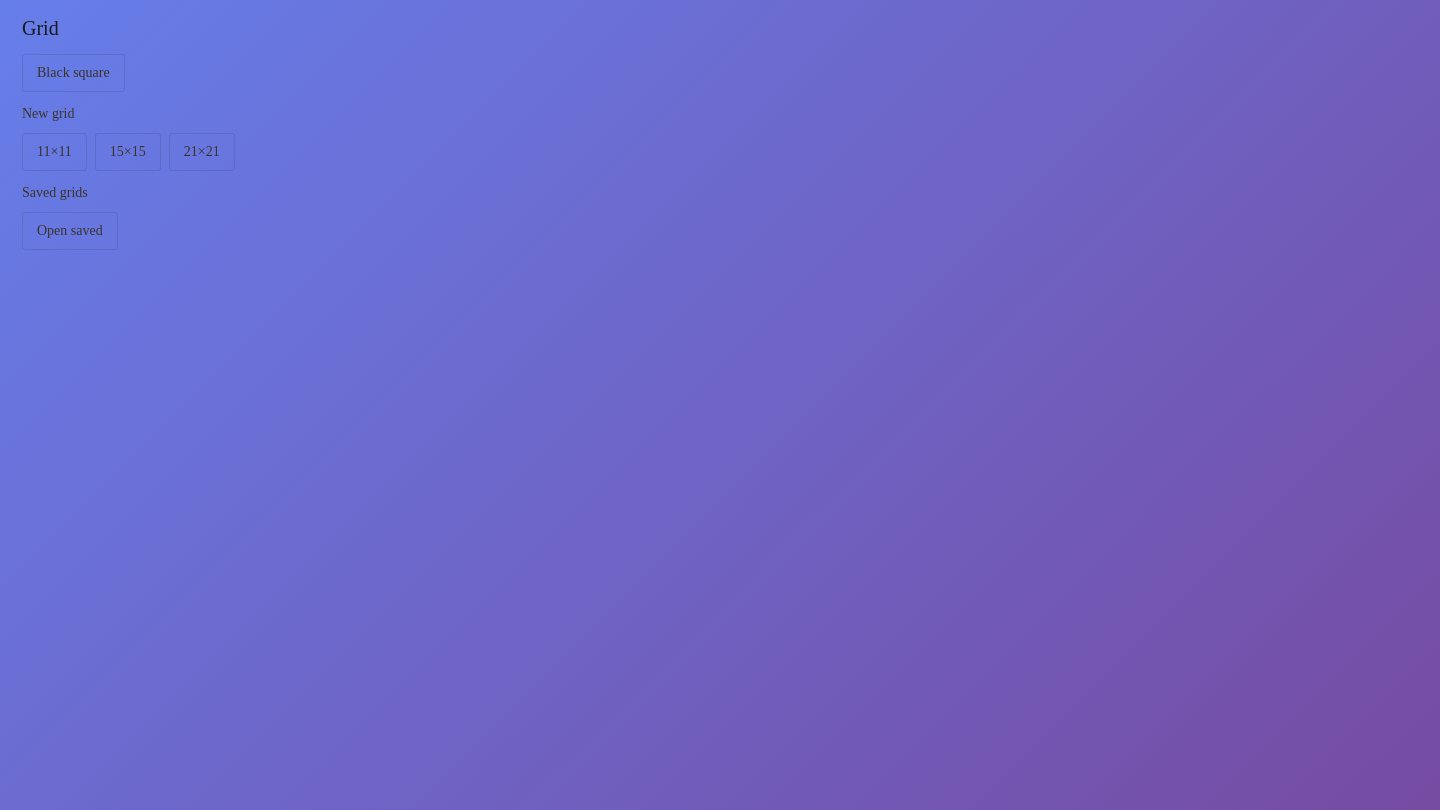
Test: GridPanel Open saved (§3.4) › lists nothing until Open saved is pressed, then one row per stored entry, newest first
Click the button "Open saved" at x=70, y=231, box x1=22 y1=212 x2=118 y2=250
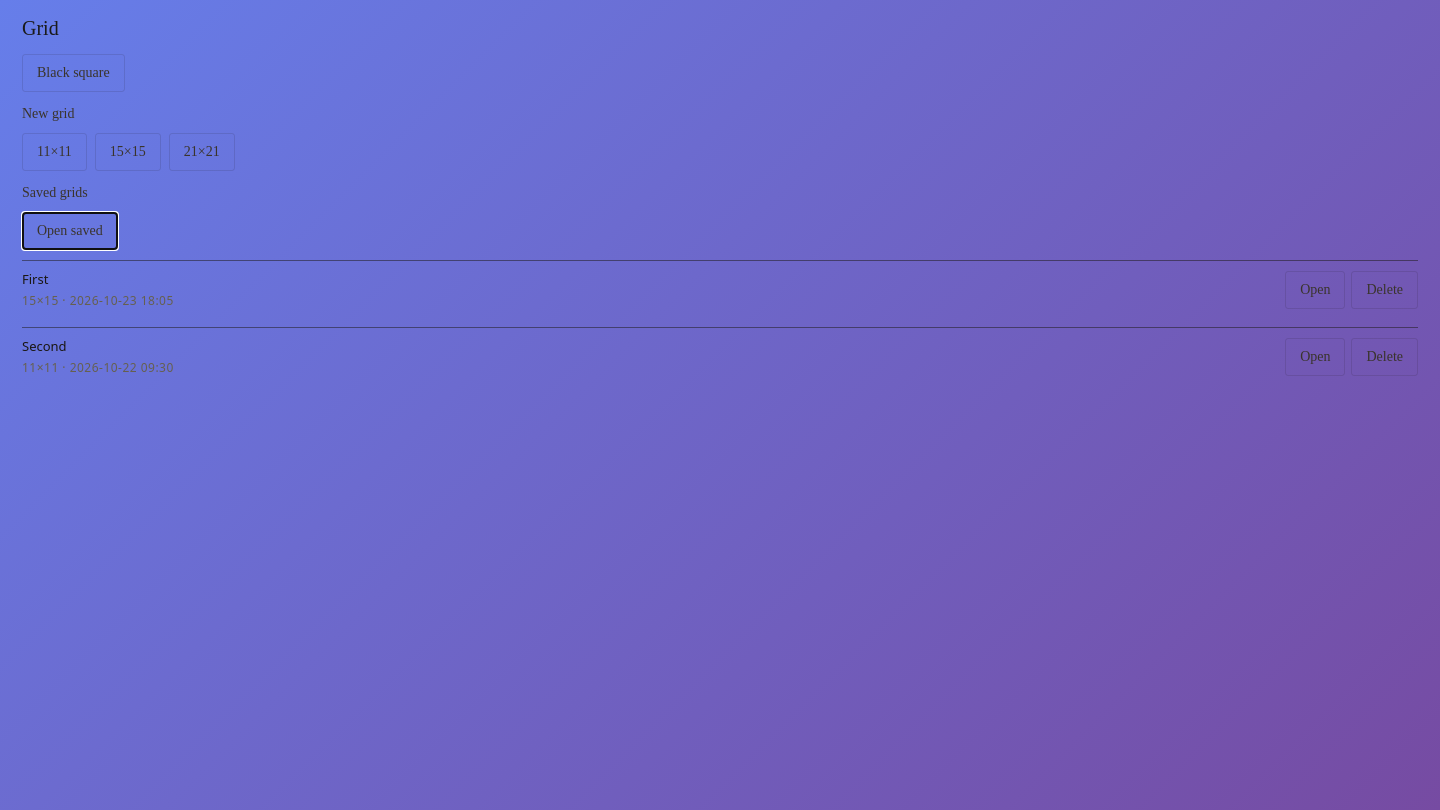
Result: the text "First" is shown at x1=22 y1=270 x2=48 y2=288
